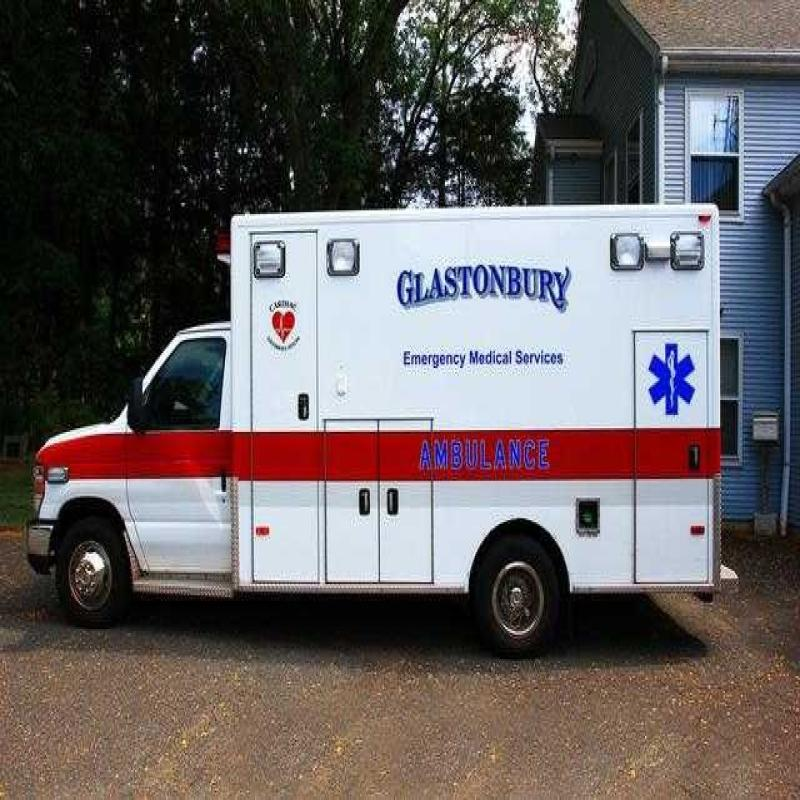AmbulanceSiren: (606, 233, 751, 304), (259, 222, 370, 291)
